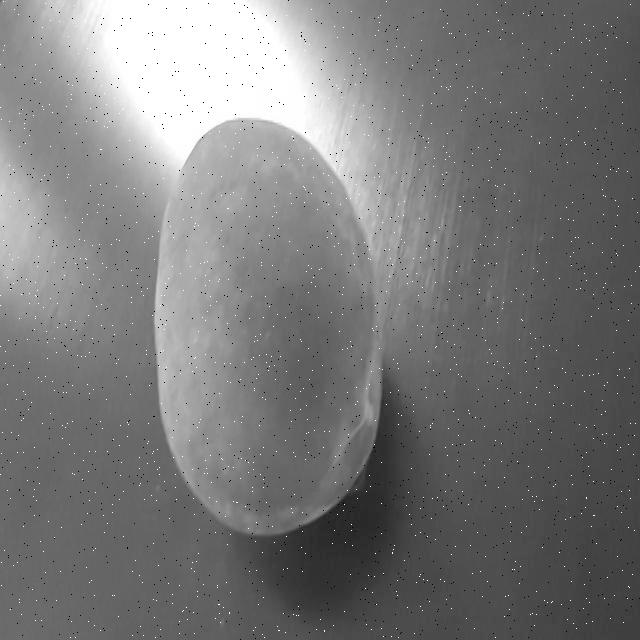Apel Gala: (128, 96, 408, 554)
